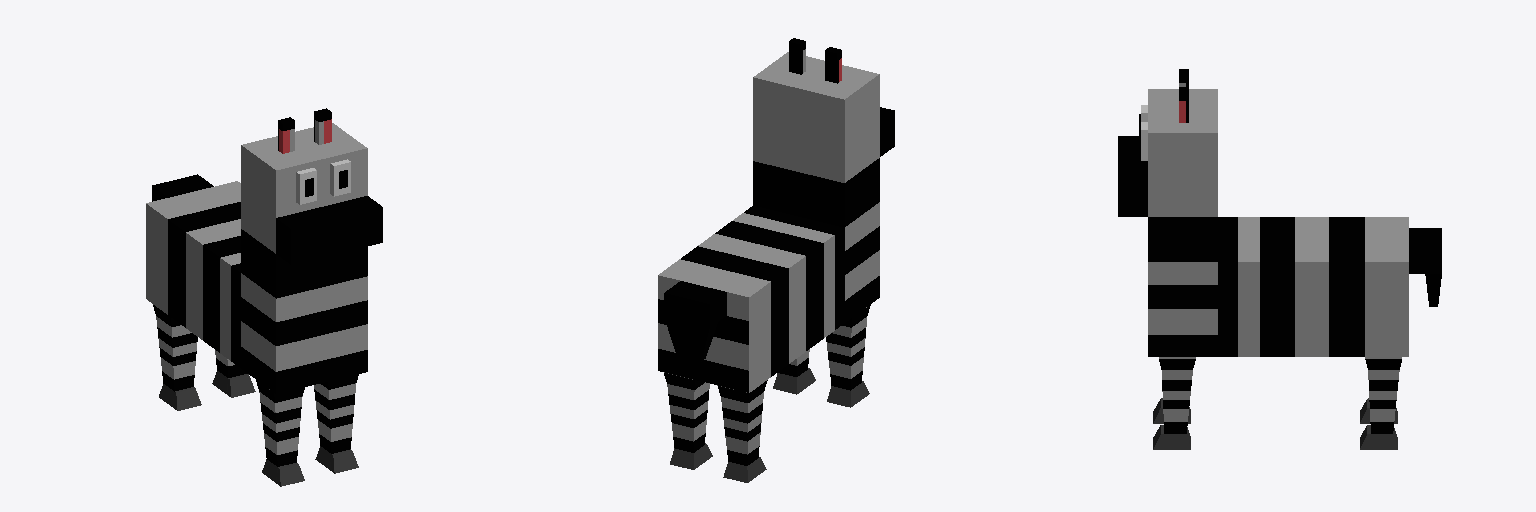
File: Zebra.obj
3 views of the same model, side by side, from view 1: azimuth 30°, elevation 25°; view 2: azimuth 150°, elevation 25°; view 3: azimuth 270°, elevation 25° (orthographic).
Parts seen in each view (by area): view 1: Cube_Cube.001; view 2: Cube_Cube.001; view 3: Cube_Cube.001.
Part boxes in pixels (x1,y1,x2,y2): Cube_Cube.001: (146, 108, 382, 486); Cube_Cube.001: (658, 38, 894, 482); Cube_Cube.001: (1118, 69, 1441, 449).
Bounding box in the file's own units: 1.5 × 5.48 × 4.6.